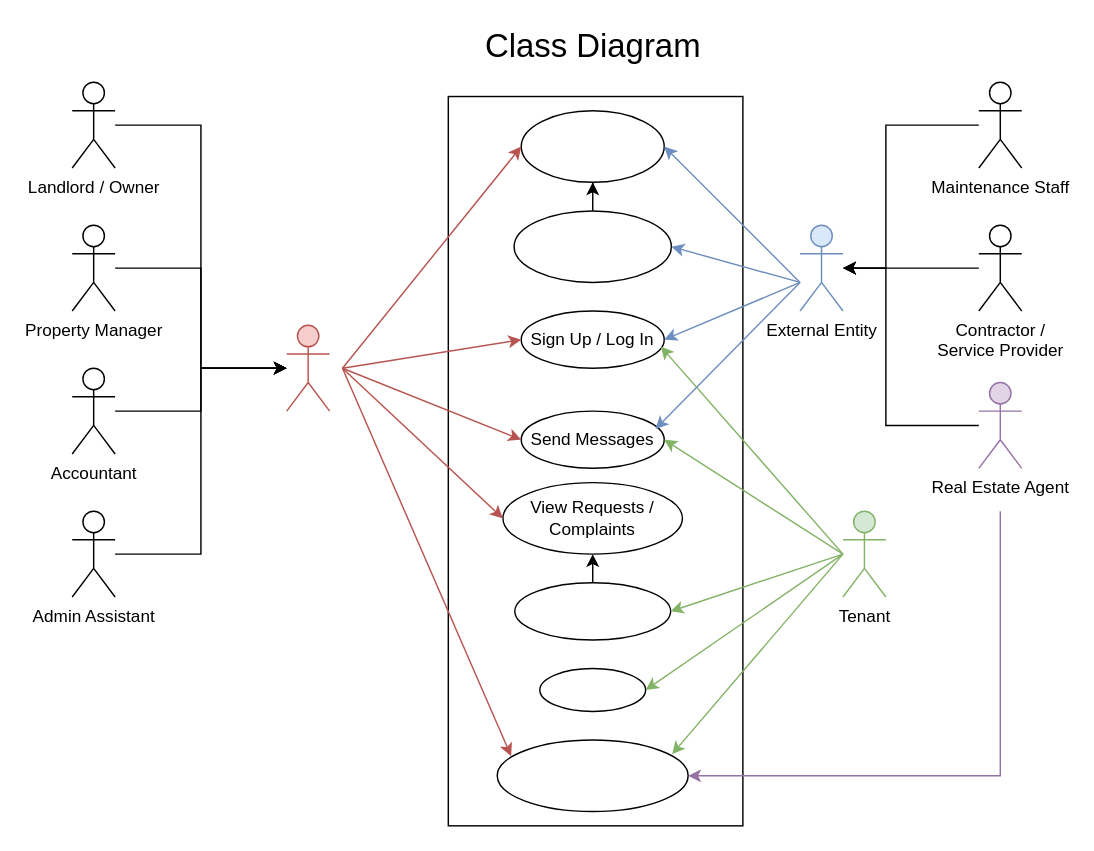
The diagram is 1094 pixels wide and 851 high, and some of its shapes have lost their labels. Here are the shapes that lost their labels. From the top down, the centre of each, then its label:
(592,145): View Requests and Viewings
(592,245): Request Work Hours / Viewing
(307,367): Information Manager
(592,610): Make Request / Complaint
(592,689): Pay Bills
(592,775): Access Property Documents
